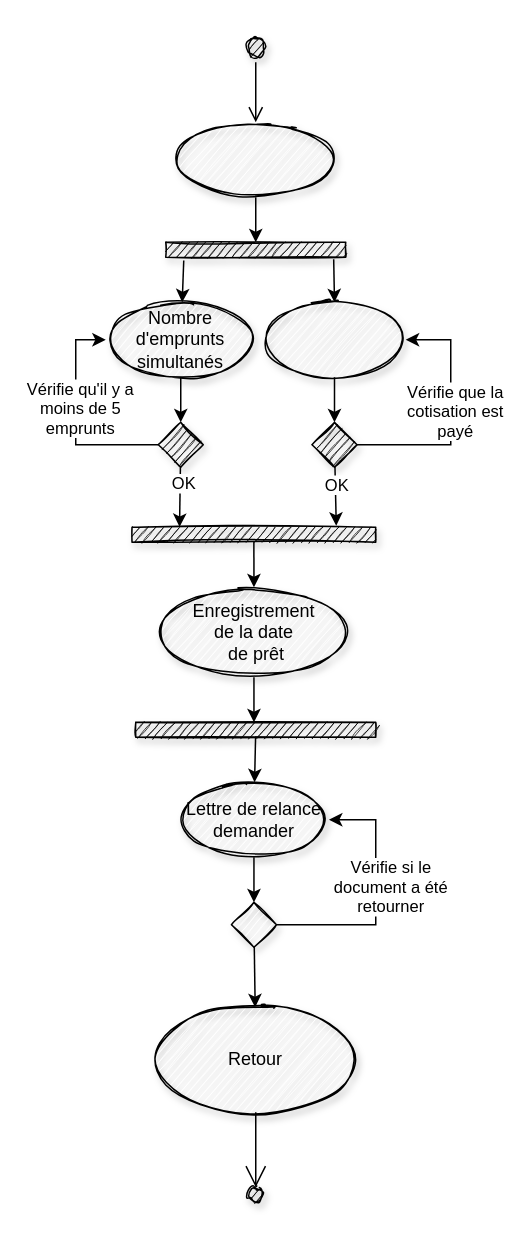
Image size: 528x1239. Some labels were removed from this diagram. The shapes that lost their labels are listed below. From the top down, each one's centre as x and y in pixels, then its label:
At point (256, 161): "Prêt d'un Document".
At point (335, 341): "Cotisation".
